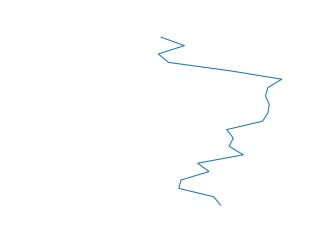floodPlain: (157, 33, 283, 208)
